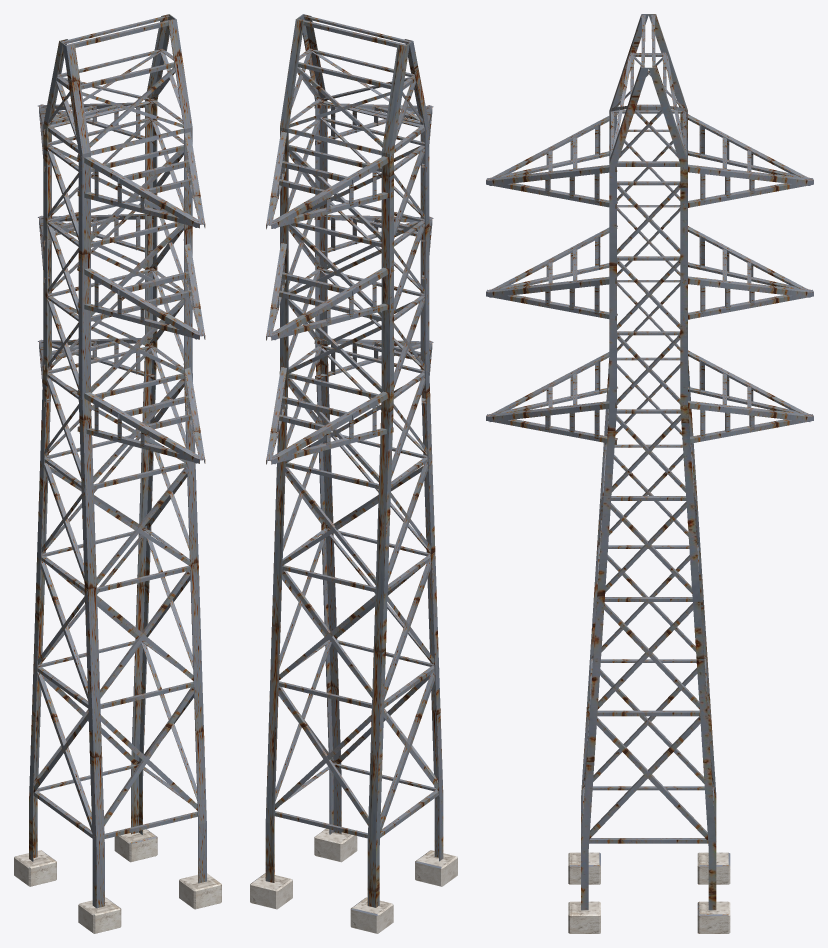
File: Stolb_LEP_003.fbx
The picture shows the model from 3 angles, left to right: view 1: azimuth 30°, elevation 25°; view 2: azimuth 150°, elevation 25°; view 3: azimuth 270°, elevation 25°; orthographic projection.
Parts seen in each view (by area): view 1: Cube.055; view 2: Cube.055; view 3: Cube.055.
Boxes of the visible parts, x1,y1,x2,y2 form: Cube.055: (14,14,221,933); Cube.055: (250,14,457,933); Cube.055: (486,14,813,933).
Bounding box in the file's own units: 410 × 2615 × 902.
